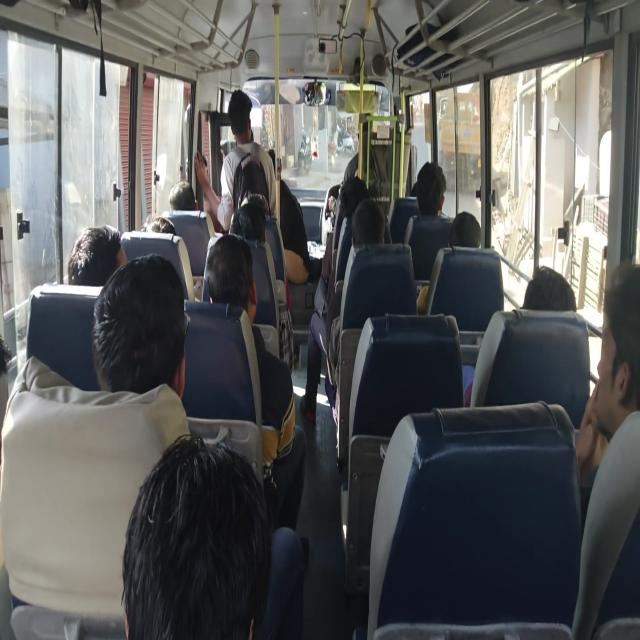person: (121, 436, 272, 638), (574, 260, 640, 634), (478, 264, 579, 431), (91, 254, 188, 399), (395, 161, 454, 293), (424, 212, 485, 322), (203, 231, 255, 317), (66, 224, 124, 288), (163, 183, 214, 252), (522, 264, 578, 312), (266, 147, 304, 203), (225, 81, 252, 151), (413, 160, 446, 216), (351, 196, 386, 248), (232, 196, 268, 244), (337, 174, 370, 224), (448, 210, 482, 249), (169, 180, 197, 212), (143, 216, 177, 236), (411, 180, 420, 198)
